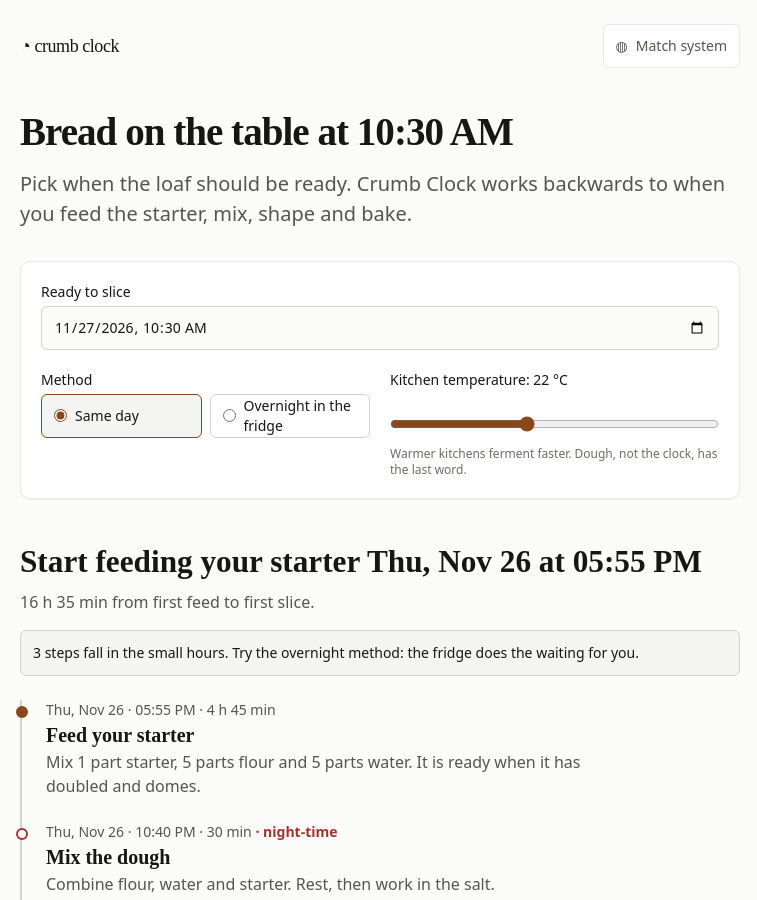
Test: Crumb Clock core loop › switching to overnight adds the cold proof
Click the radio button labelled "Overnight in the fridge". click: (229, 416)
box: [222,409,236,422]
(page scrolled)
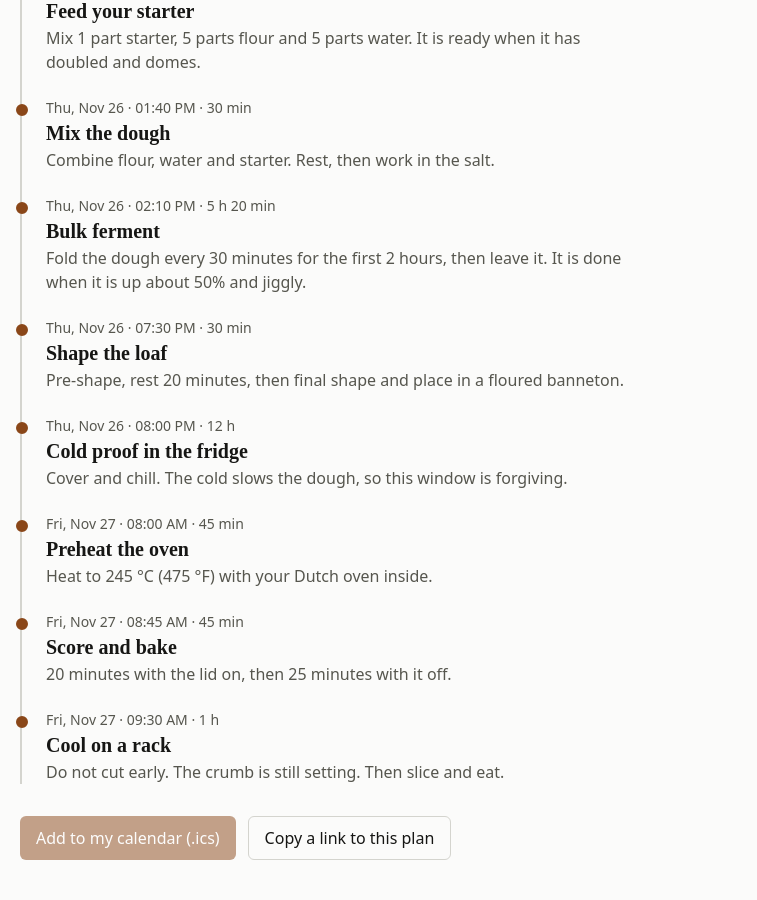
Result: the heading "Cold proof in the fridge" is shown at [46,440,248,462]
